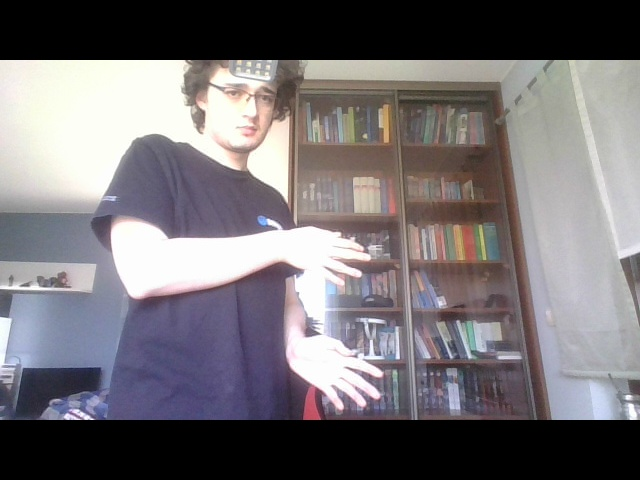hand: (287, 334, 388, 413), (276, 224, 371, 286)
